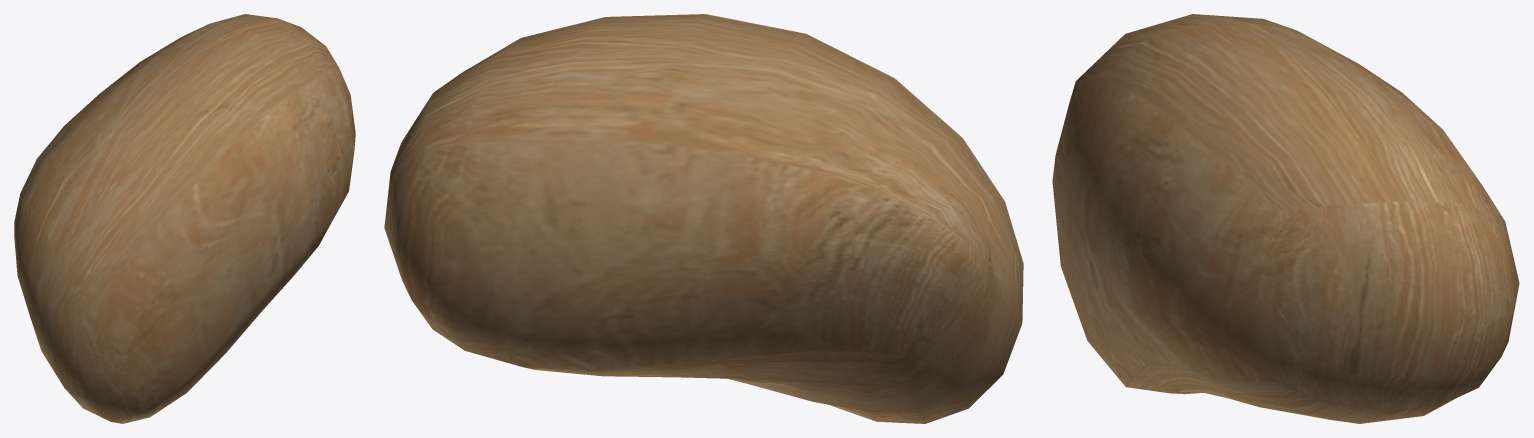
The model's file is rock4.obj.
3 views of the same model, side by side, from view 1: azimuth 30°, elevation 25°; view 2: azimuth 150°, elevation 25°; view 3: azimuth 270°, elevation 25° (orthographic). The views are drawn at different scales.
Visible parts, largest first — view 1: rock4; view 2: rock4; view 3: rock4.
Part boxes in pixels (left/top/right/bottom): rock4: left=14, top=14, right=355, bottom=423; rock4: left=384, top=14, right=1023, bottom=423; rock4: left=1052, top=14, right=1519, bottom=423.
Size of the model in its own units: 3.72 by 2.82 by 2.93.
Materials: 1 (1 with a texture image).
